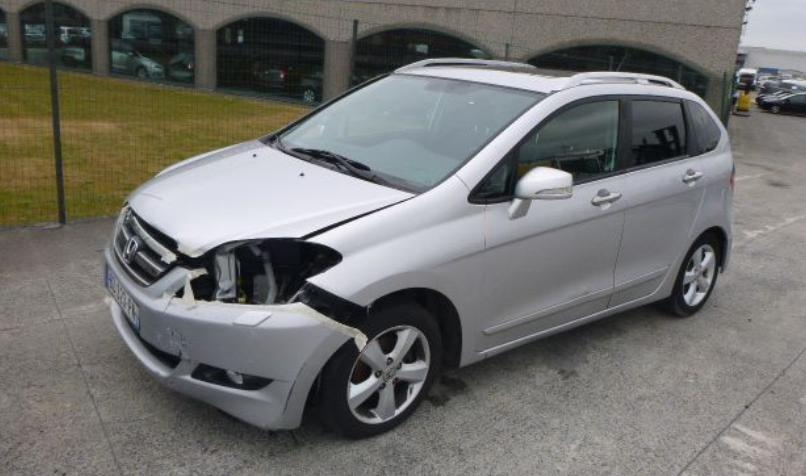Back-door: (610, 96, 706, 308)
Back-wheel: (659, 230, 723, 315)
Back-window: (629, 99, 700, 171), (687, 101, 720, 154)
Fender: (302, 175, 485, 367)
Front-bumper: (104, 238, 359, 434)
Front-door: (470, 96, 630, 355)
Front-wheel: (311, 289, 454, 438)
Front-window: (472, 94, 621, 201)
Grille: (113, 212, 176, 285)
Hood: (127, 138, 422, 259)
License-plate: (105, 264, 140, 332)
Mirror: (511, 169, 573, 215)
Quarter-panel: (659, 146, 736, 288)
Rocker-panel: (485, 286, 674, 359)
Roof: (392, 57, 694, 93)
Windshield: (267, 72, 559, 189)
